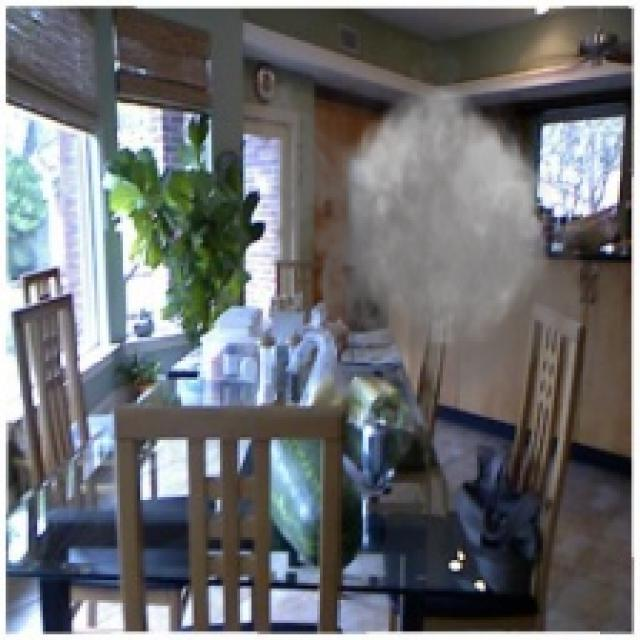Smoke: (248, 14, 600, 423)
